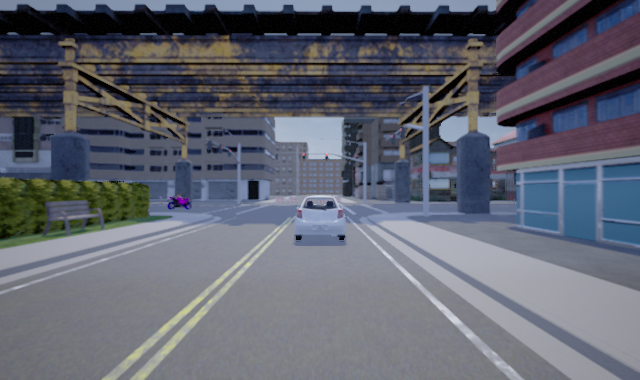motobike: (165, 192, 191, 210)
vehicle: (292, 194, 347, 242)
